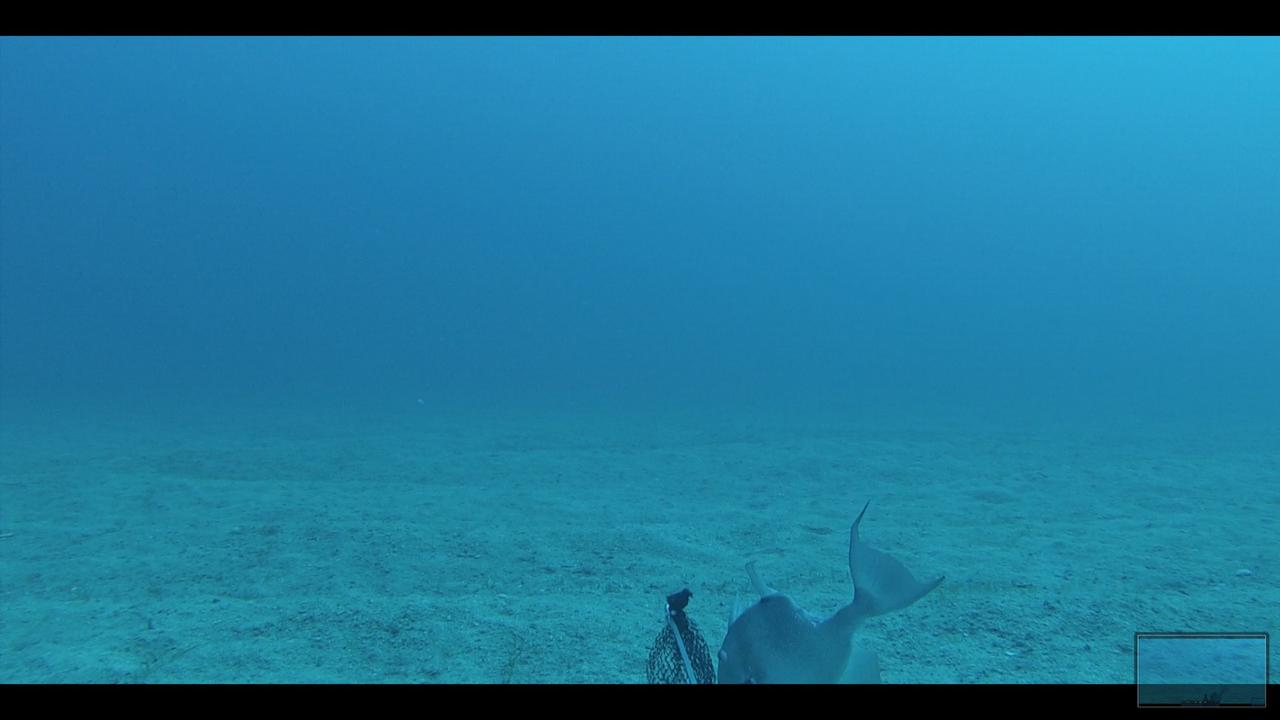balistes: (712, 498, 946, 681)
